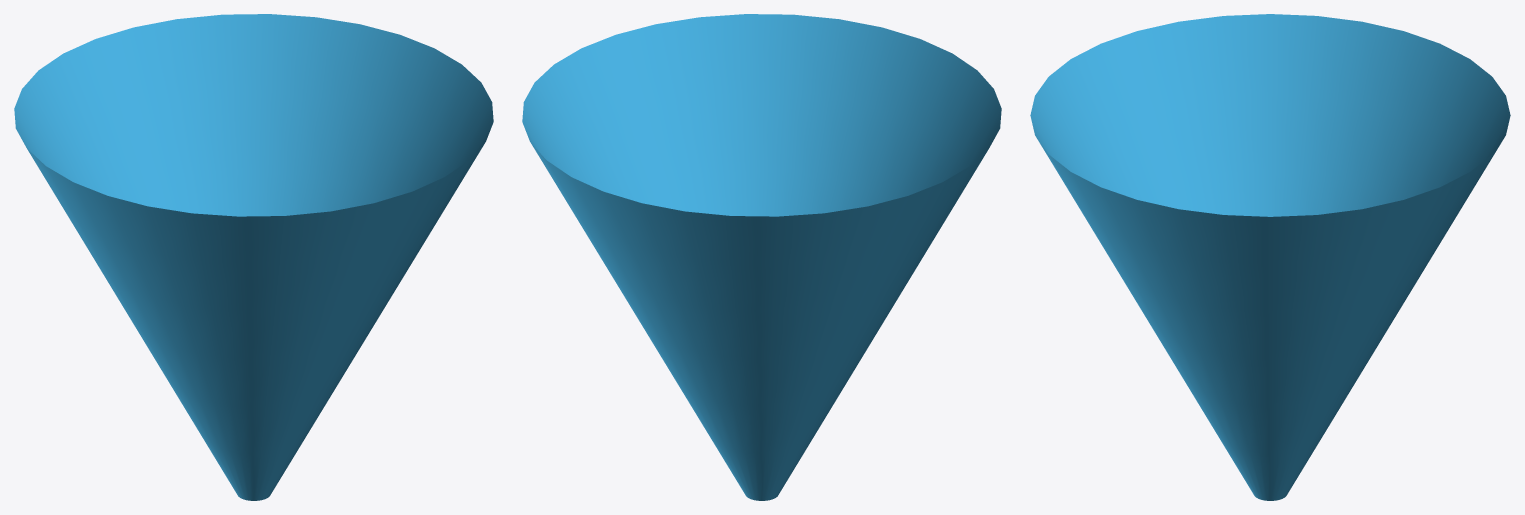
File: fx_cone_wide.glb
The picture shows the model from 3 angles, left to right: view 1: azimuth 30°, elevation 25°; view 2: azimuth 150°, elevation 25°; view 3: azimuth 270°, elevation 25°; orthographic projection.
Parts seen in each view (by area): view 1: fx_cone_wide; view 2: fx_cone_wide; view 3: fx_cone_wide.
Part boxes in pixels (x1,y1,x2,y2): fx_cone_wide: (14,14,493,500); fx_cone_wide: (522,14,1001,500); fx_cone_wide: (1030,14,1510,500).
Size of the model in its own units: 2.3 by 2 by 2.3.
